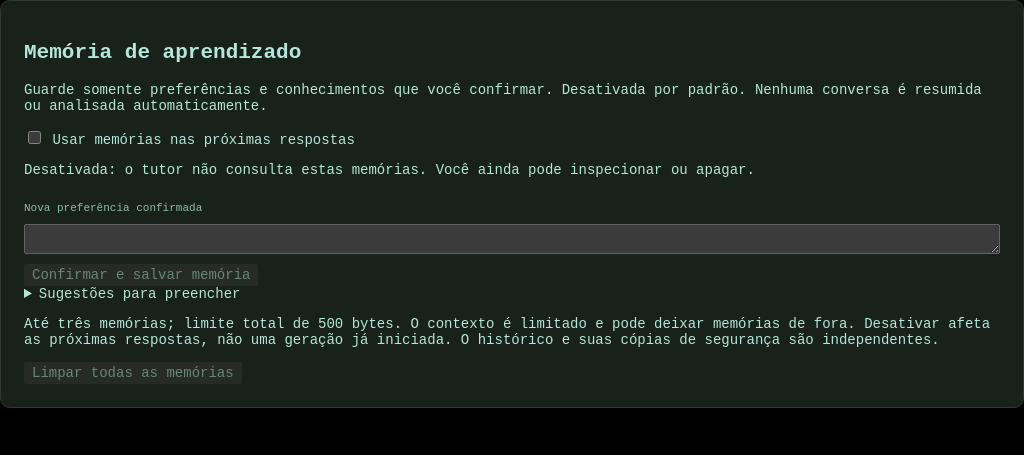
it: exige opt-in e preserva texto se salvar falha
Check: the text "Desativada: o tutor" is shown, box 24,162 -> 755,178
Check: the button "Confirmar e salvar memória" is disabled, box 24,264 -> 258,286
Click the checkbox labelled "Usar memórias nas próximas respostas": {"x": 34, "y": 137} 28,131 -> 41,144
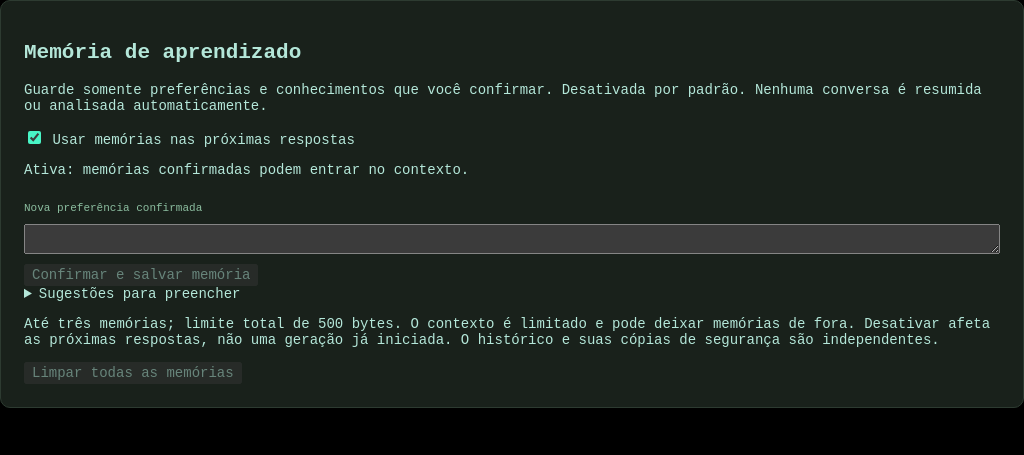
In the text box labelled "Nova preferência confirmada": {"x": 512, "y": 239} 24,224 -> 1000,254, type "Estudo DNS"
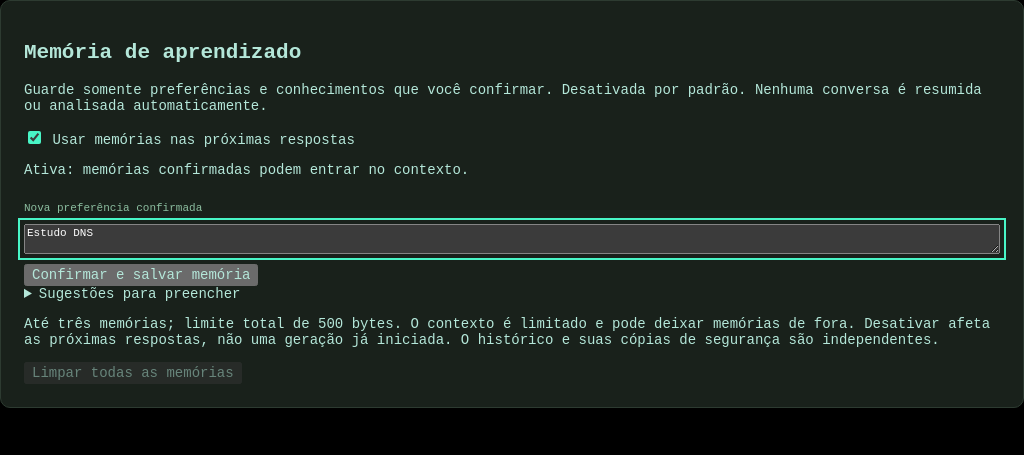
Click the button "Confirmar e salvar memória": {"x": 141, "y": 275} 24,264 -> 258,286
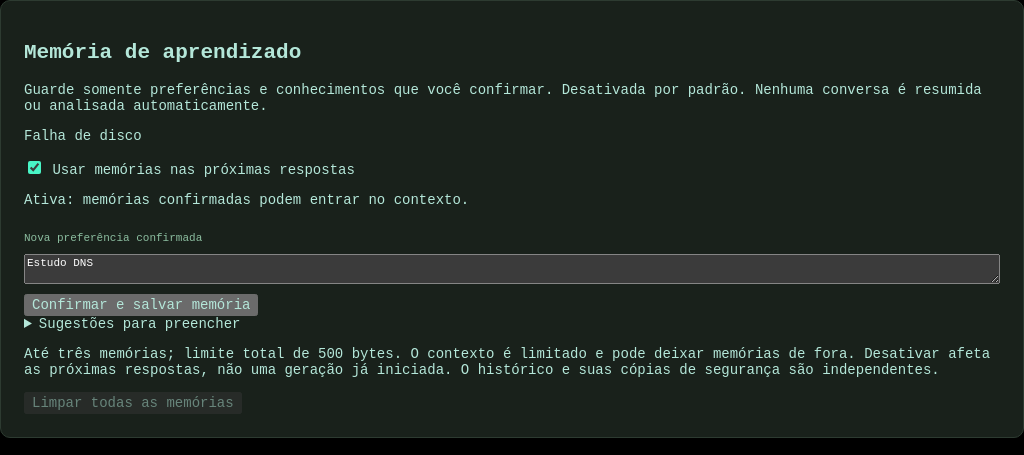
Check: the message reads "Falha de disco", box 24,128 -> 142,144
